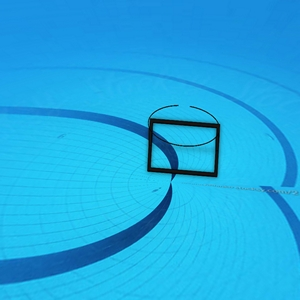circle: (146, 104, 223, 181)
